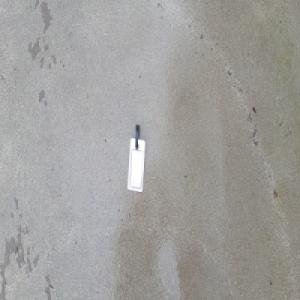LuggageTag: (126, 123, 146, 194)
